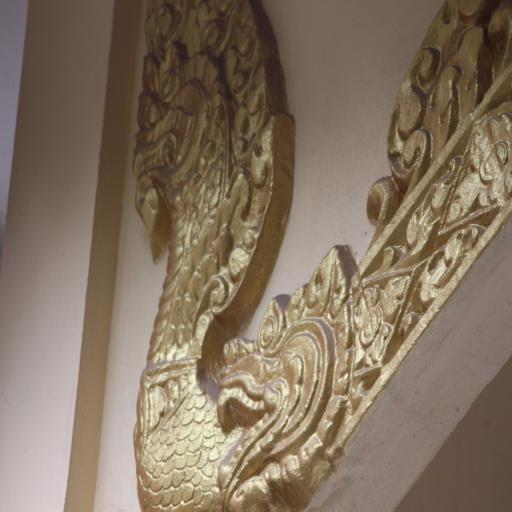lua: (388, 39, 462, 171)
ran: (125, 2, 332, 512)
